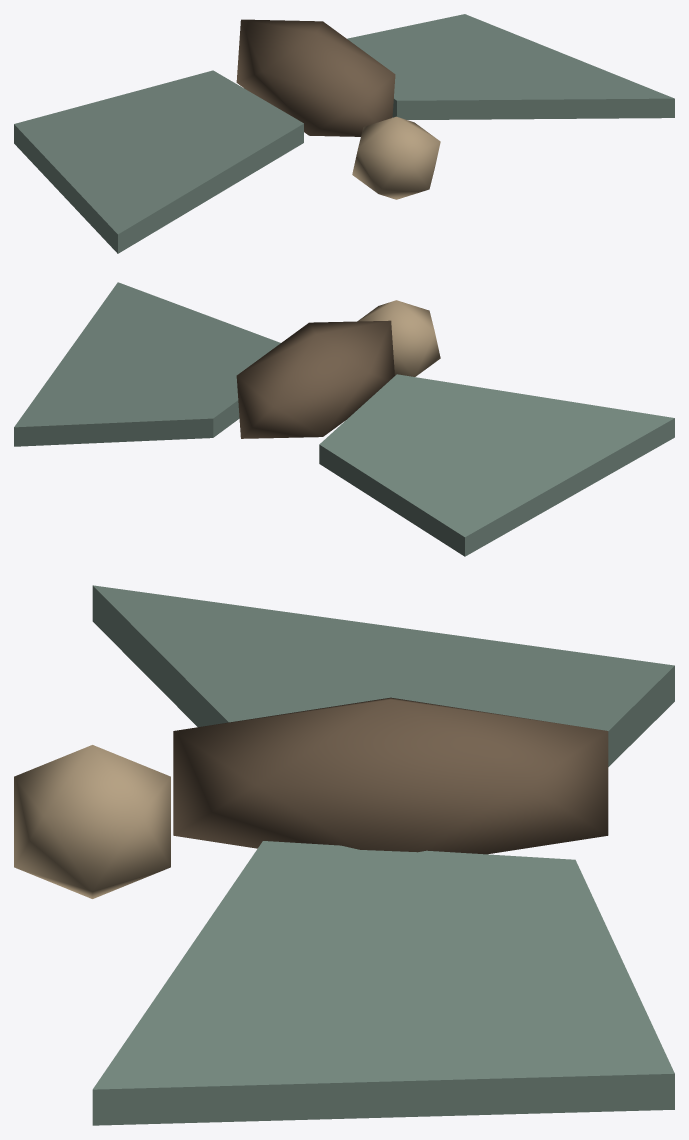
Rendered from spread-portable-corpse-bat.fbx.
The picture shows the model from 3 angles, top to bottom: view 1: azimuth 30°, elevation 25°; view 2: azimuth 150°, elevation 25°; view 3: azimuth 270°, elevation 25°; orthographic projection. The views are drawn at different scales.
Parts seen in each view (by area): view 1: spread-portable-corpse-bat__Geometry; view 2: spread-portable-corpse-bat__Geometry; view 3: spread-portable-corpse-bat__Geometry.
Part boxes in pixels (x1=…): spread-portable-corpse-bat__Geometry: x1=14, y1=14, x2=674, y2=253; spread-portable-corpse-bat__Geometry: x1=14, y1=282, x2=674, y2=556; spread-portable-corpse-bat__Geometry: x1=14, y1=585, x2=674, y2=1125.
Size of the model in its own units: 0.84 by 0.16 by 0.4653.
